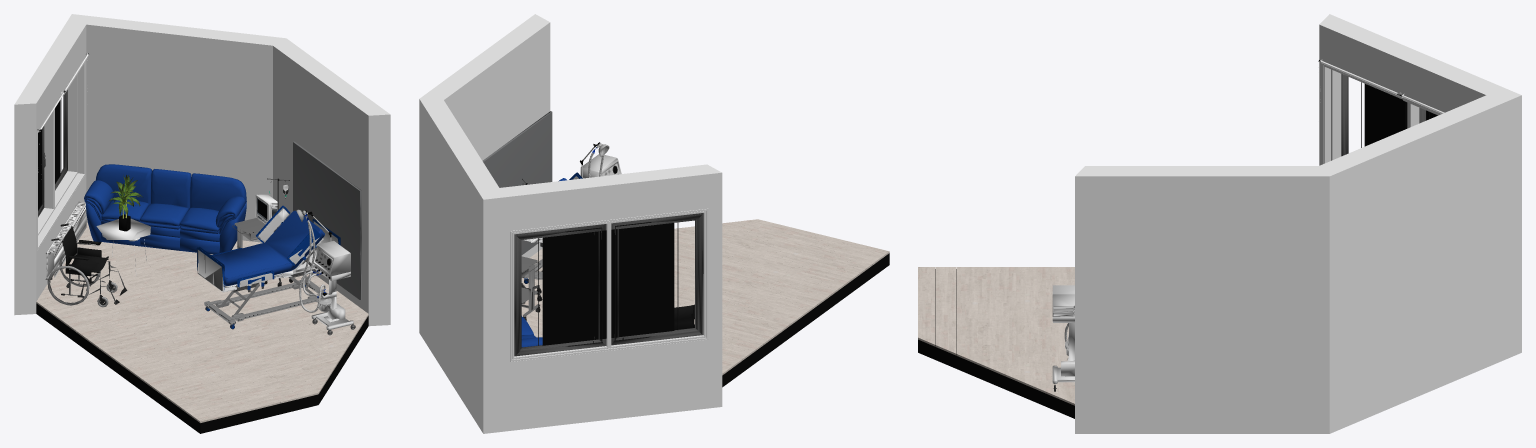
The model's file is ward.glb.
3 views of the same model, side by side, from view 1: azimuth 30°, elevation 25°; view 2: azimuth 150°, elevation 25°; view 3: azimuth 270°, elevation 25° (orthographic). The views are drawn at different scales.
Parts seen in each view (by area): view 1: walls, floor_tiles, cgaxis_models_25_30_01, wall_panel, window_frame, floor_bottom, cgaxis_models_55_15_01, cgaxis_models_55_15_05, cgaxis_models_55_07_02, cgaxis_models_55_15_03, cgaxis_models_55_20_01, cgaxis_models_55_15_02 (+9 smaller); view 2: walls, floor_tiles, cgaxis_models_46_05_006, cgaxis_models_46_05_02, window_frame, wall_panel, floor_bottom, cgaxis_models_46_05_01_2, cgaxis_models_46_05_01_005, cgaxis_models_46_05_01_006, cgaxis_models_46_05_01_1, cgaxis_models_55_25_01 (+2 smaller); view 3: walls, floor_tiles, floor_bottom, window_frame, cgaxis_models_46_05_006, cgaxis_models_55_07_02.
Part boxes in pixels (left/top/right/bottom): walls: left=14, top=14, right=390, bottom=326; floor_tiles: left=36, top=223, right=368, bottom=422; cgaxis_models_25_30_01: left=84, top=164, right=246, bottom=254; wall_panel: left=293, top=141, right=361, bottom=299; window_frame: left=37, top=60, right=85, bottom=249; floor_bottom: left=36, top=303, right=368, bottom=433; cgaxis_models_55_15_01: left=212, top=210, right=324, bottom=285; cgaxis_models_55_15_05: left=197, top=249, right=328, bottom=324; cgaxis_models_55_07_02: left=306, top=212, right=353, bottom=330; cgaxis_models_55_15_03: left=198, top=208, right=338, bottom=292; cgaxis_models_55_20_01: left=62, top=226, right=107, bottom=276; cgaxis_models_55_15_02: left=196, top=205, right=340, bottom=328; walls: left=419, top=14, right=722, bottom=433; floor_tiles: left=521, top=219, right=889, bottom=375; cgaxis_models_46_05_006: left=597, top=223, right=674, bottom=339; cgaxis_models_46_05_02: left=543, top=231, right=597, bottom=345; window_frame: left=510, top=208, right=708, bottom=361; wall_panel: left=482, top=111, right=552, bottom=254; floor_bottom: left=722, top=253, right=889, bottom=387; cgaxis_models_46_05_01_2: left=514, top=224, right=606, bottom=356; cgaxis_models_46_05_01_005: left=611, top=213, right=703, bottom=345; cgaxis_models_46_05_01_006: left=613, top=219, right=697, bottom=340; cgaxis_models_46_05_01_1: left=520, top=225, right=603, bottom=350; cgaxis_models_55_25_01: left=521, top=256, right=540, bottom=316; walls: left=1075, top=14, right=1521, bottom=433; floor_tiles: left=918, top=267, right=1074, bottom=405; floor_bottom: left=918, top=269, right=1074, bottom=418; window_frame: left=1323, top=65, right=1419, bottom=163; cgaxis_models_46_05_006: left=1365, top=84, right=1407, bottom=146; cgaxis_models_55_07_02: left=1052, top=285, right=1074, bottom=384.
Size of the model in its own units: 4.6 by 3.4 by 7.22.
47 materials, 12 textured.
